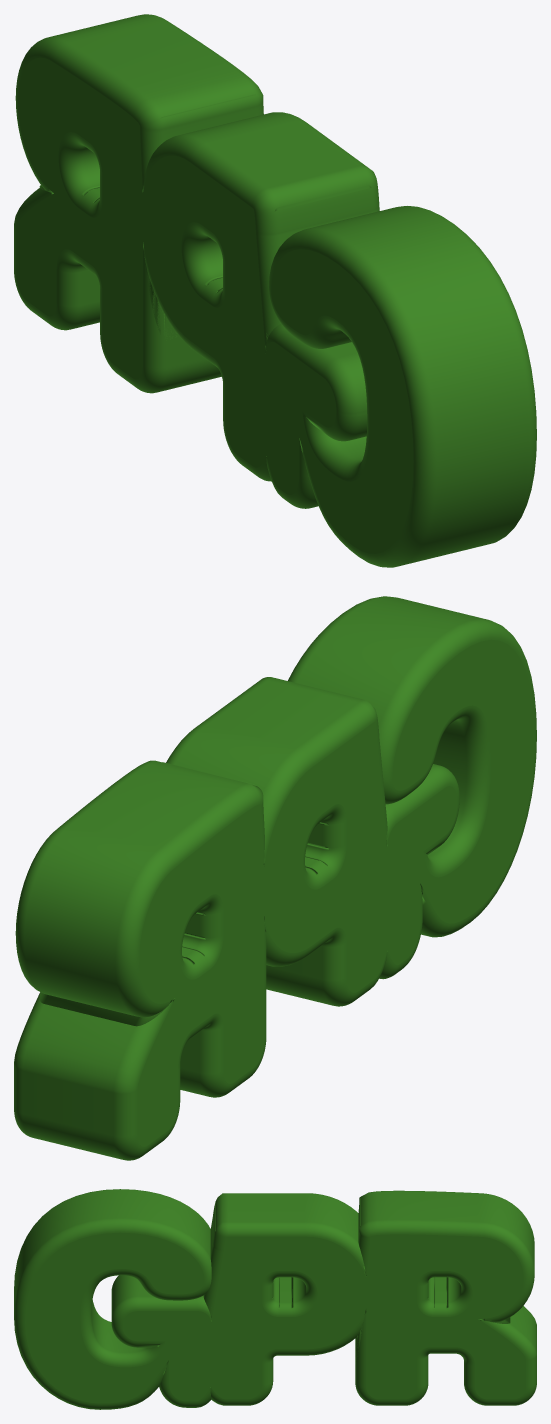
File: GPR.glb
3 views of the same model, one above another, from view 1: azimuth 30°, elevation 25°; view 2: azimuth 150°, elevation 25°; view 3: azimuth 270°, elevation 25° (orthographic). The views are drawn at different scales.
Parts seen in each view (by area): view 1: Curve; view 2: Curve; view 3: Curve.
Boxes of the visible parts, x1,y1,x2,y2 form: Curve: (14, 14, 536, 567); Curve: (14, 596, 536, 1160); Curve: (14, 1189, 536, 1409).
Bounding box in the file's own units: 0.00228 × 0.00545 × 0.0135.
